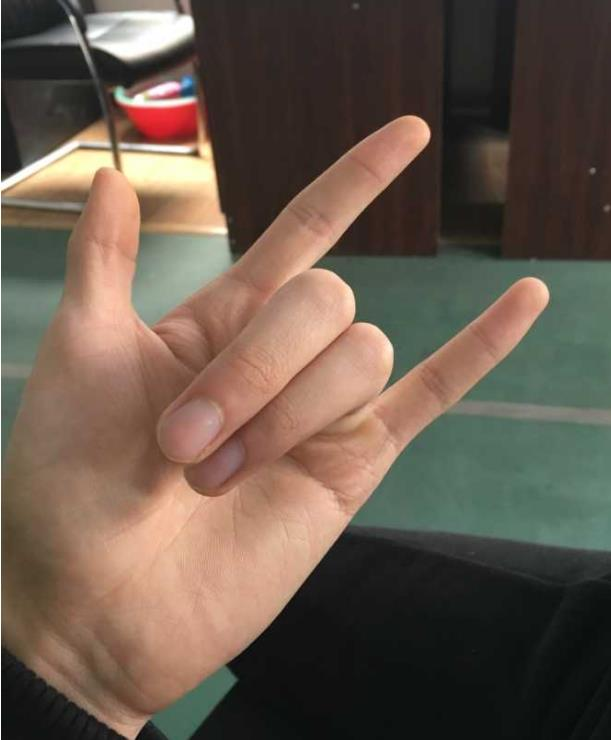back: (13, 107, 556, 651)
